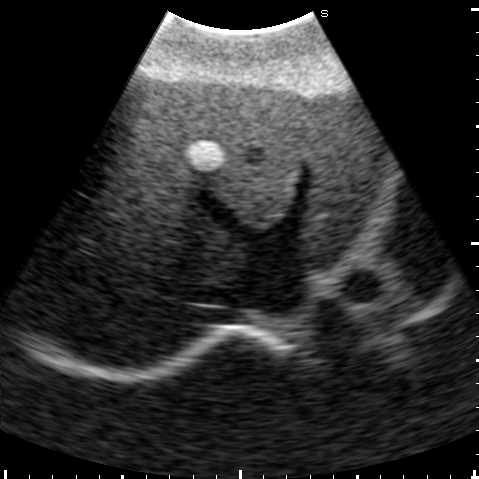S2: (304, 92, 386, 269)
S4: (121, 78, 307, 227)
S7: (34, 246, 202, 369)
S8: (84, 139, 244, 283)
Tumor: (188, 141, 227, 169)
